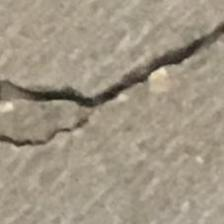Crack: (0, 16, 224, 185)
